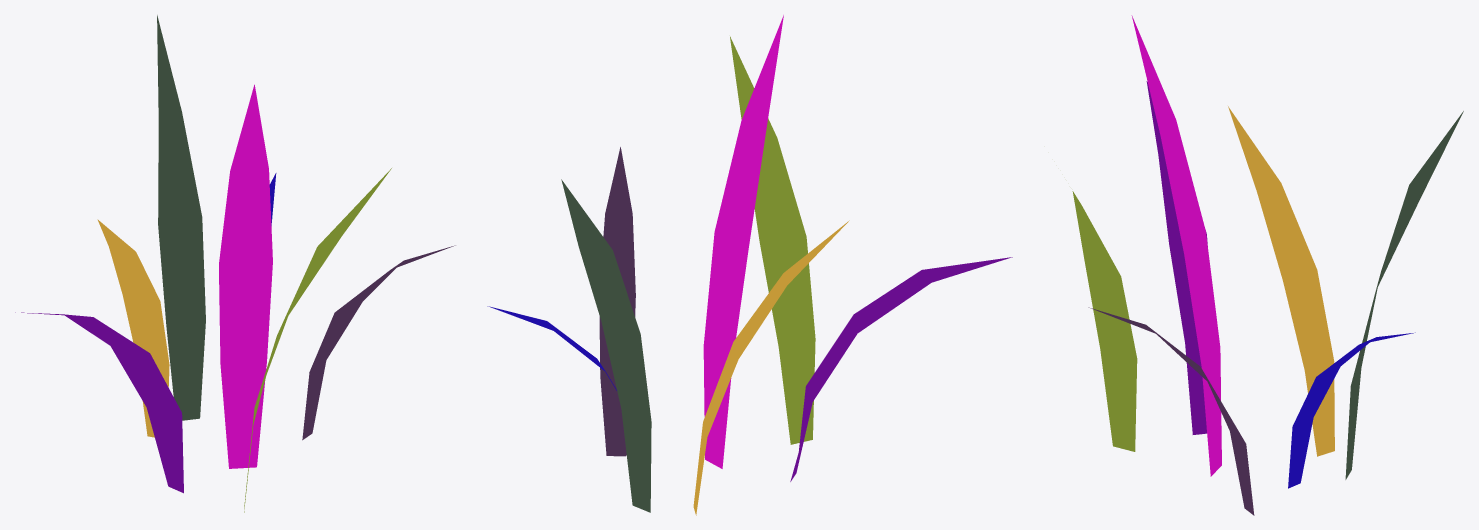
The model's file is SM_Solid_Grass_procesed_alpha.fbx.
3 renders of one model, left to right at view 1: azimuth 30°, elevation 25°; view 2: azimuth 150°, elevation 25°; view 3: azimuth 270°, elevation 25°, orthographic. The views are drawn at different scales.
Parts seen in each view (by area): view 1: Solid_Grass_Processed; view 2: Solid_Grass_Processed; view 3: Solid_Grass_Processed.
Boxes of the visible parts, box(x1,y1,x2,y2) form: Solid_Grass_Processed: box(15, 15, 455, 512); Solid_Grass_Processed: box(487, 15, 1012, 515); Solid_Grass_Processed: box(1072, 15, 1463, 515).
Bounding box in the file's own units: 39.55 × 33.12 × 38.29.
